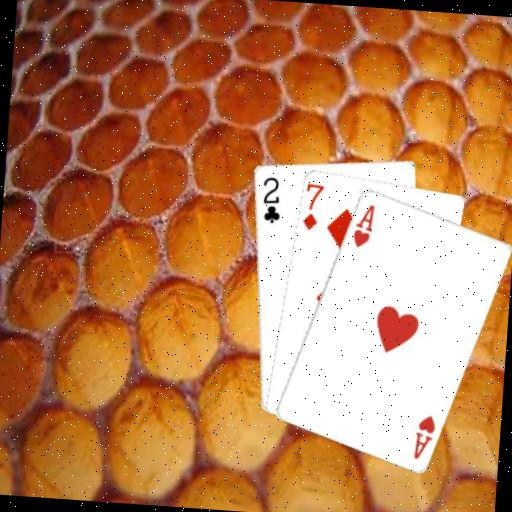2C: (257, 172, 284, 225)
7D: (299, 180, 326, 233)
AH: (349, 200, 377, 250), (411, 411, 438, 462)
